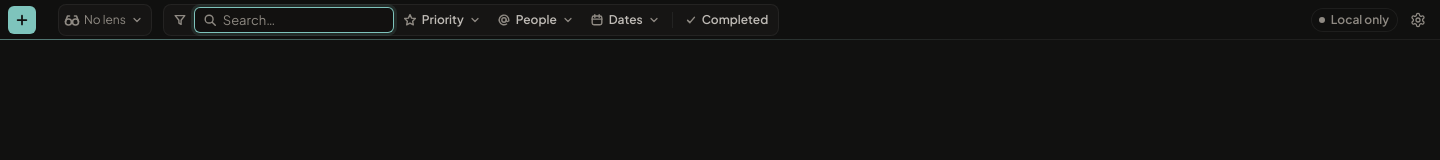
TopBar search-result pill bar › renders no pill bar for a bare todo with no people/status/dates
Type "plain" into the field with placeholder "Search…" at [294, 20], box [194,6,394,32]
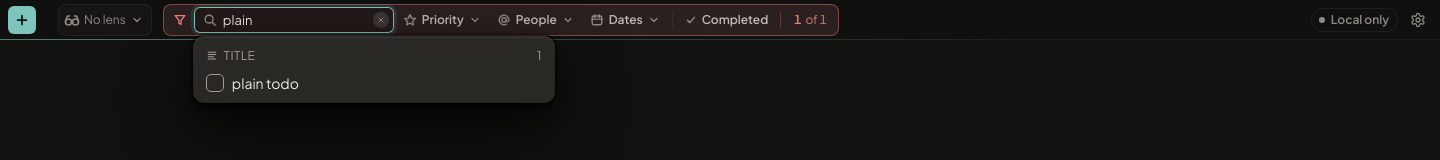
Expected: the text "plain todo" is shown, [232,74,299,92]
